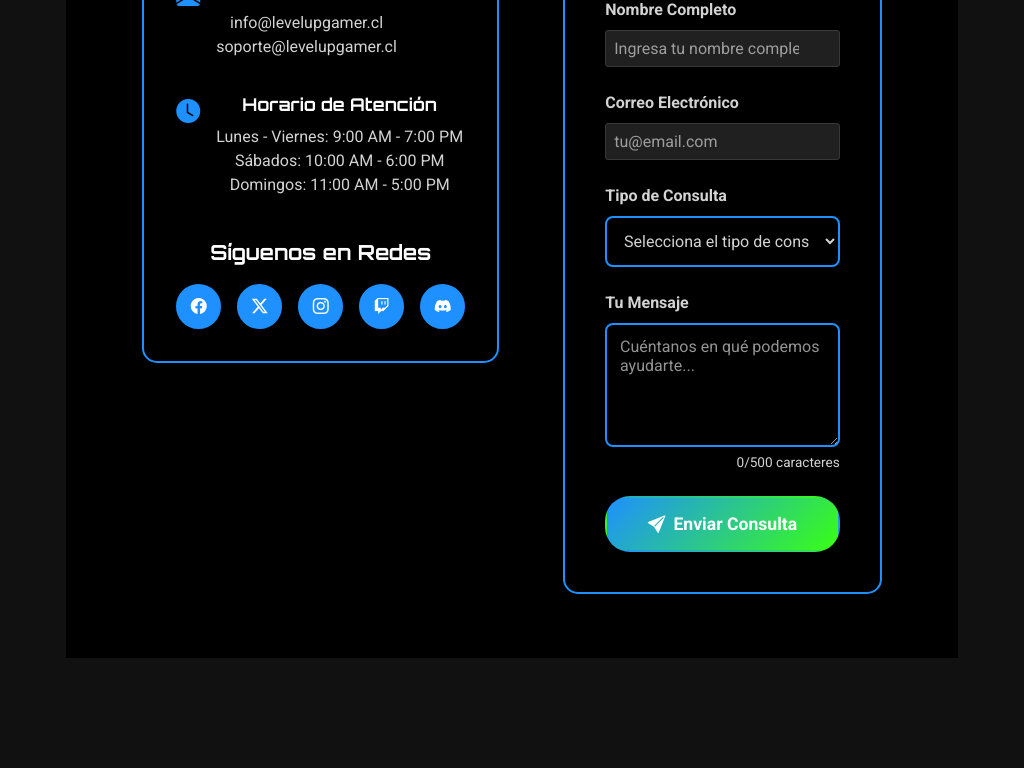
Test: ContactoPage › Debería mostrar el contador de caracteres
(page scrolled)
In the text box labelled "Tu Mensaje": {"x": 722, "y": 385} [605, 322, 840, 447], type "Test message"
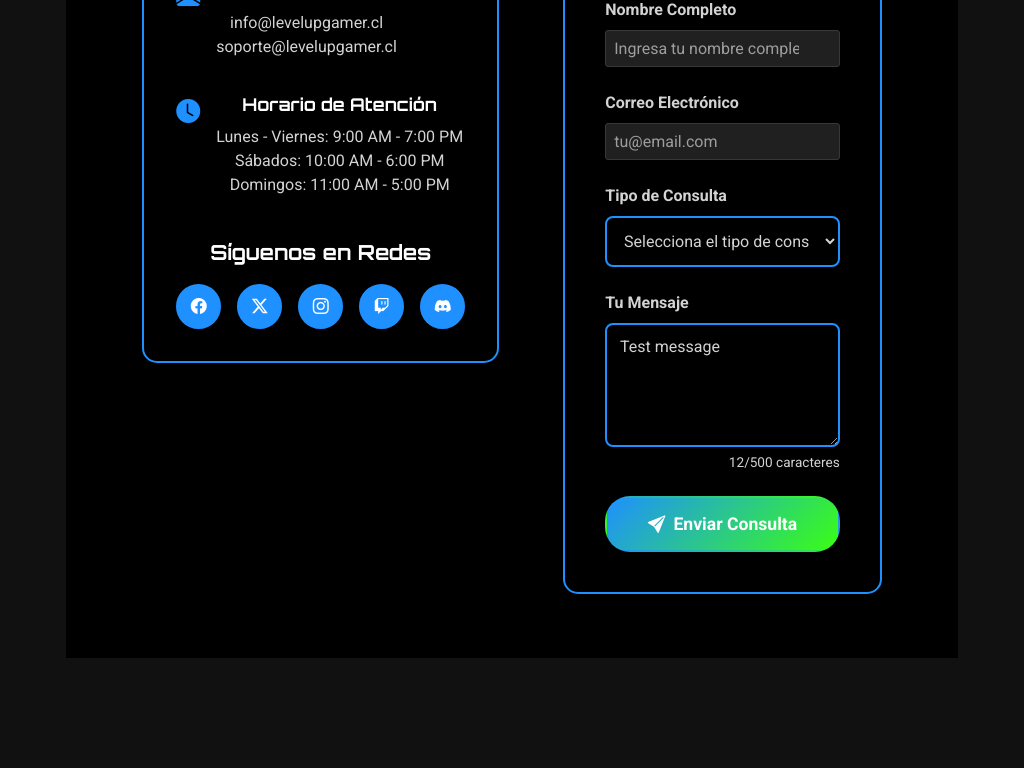
Check: the text "/500 caracteres" is shown, box [744, 454, 840, 470]
Check: the text "12" is shown, box [729, 454, 744, 470]
